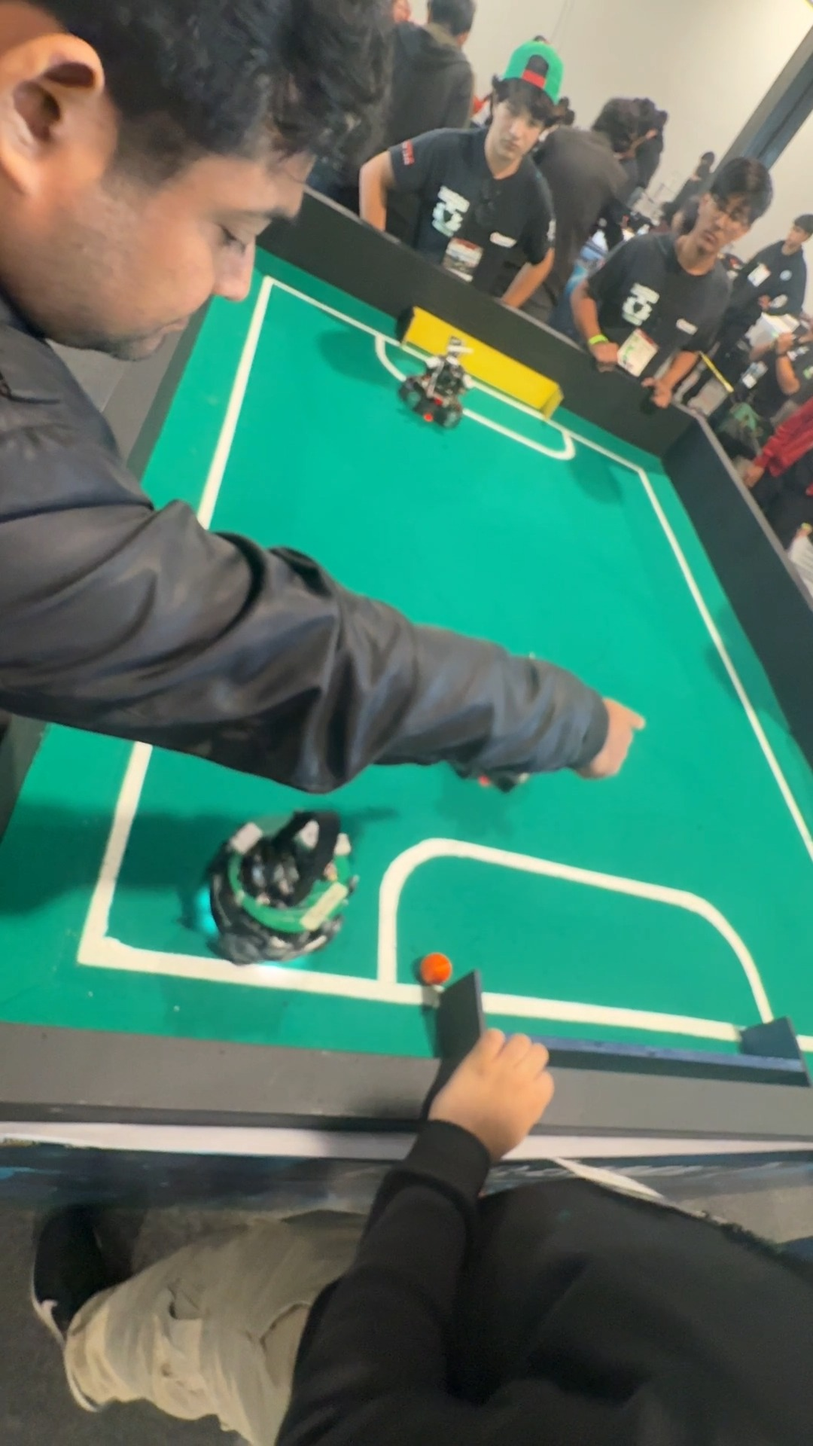Robot: (218, 796, 351, 971), (402, 341, 473, 437)
pelota: (424, 951, 452, 978)
